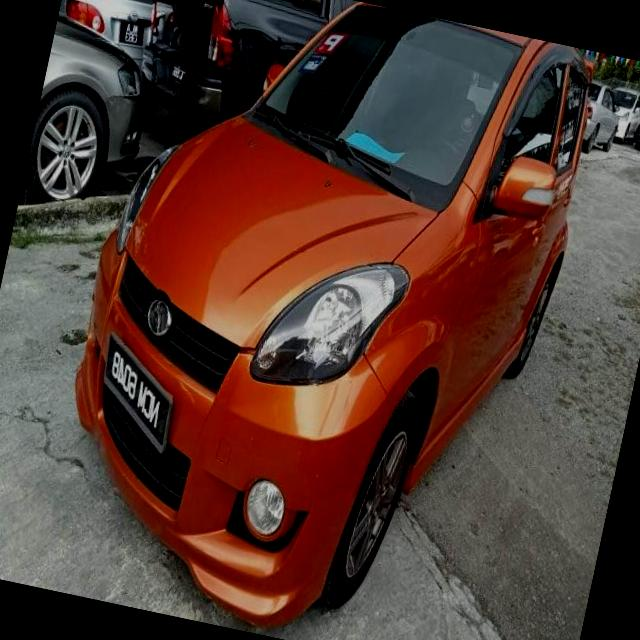PeroduaMyvi: (29, 0, 608, 640)
